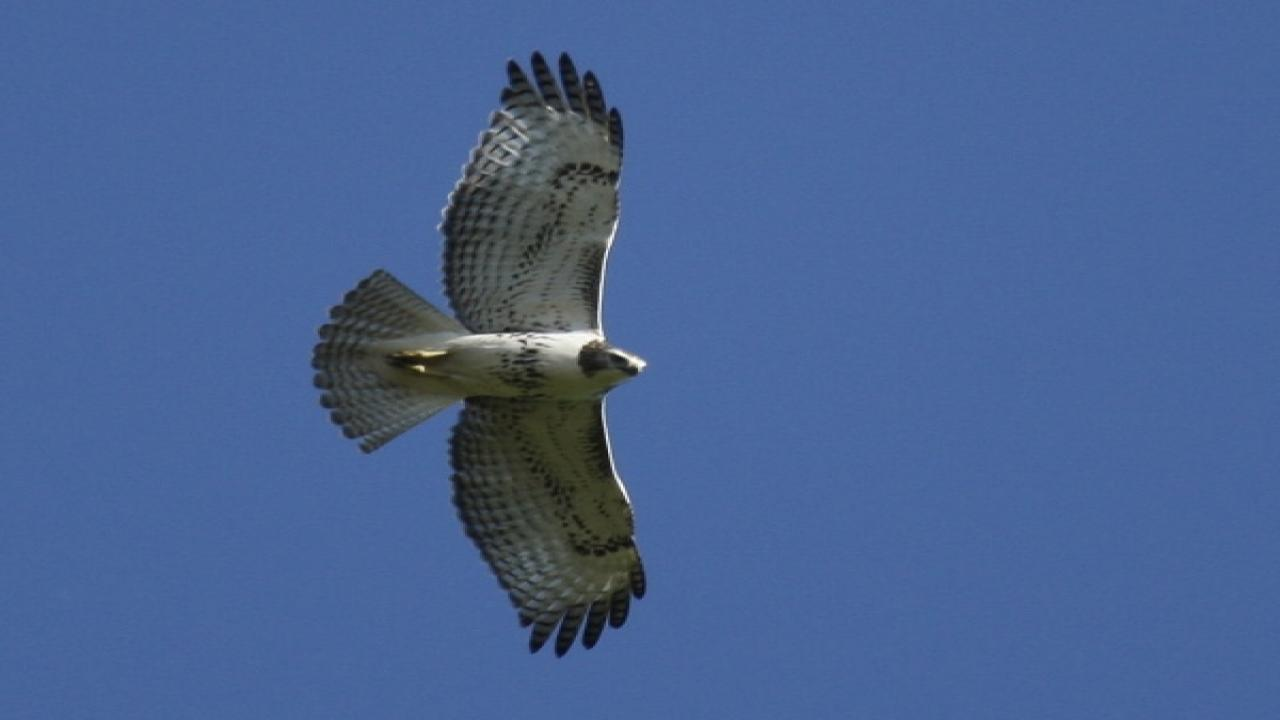Bird: (290, 40, 688, 668)
